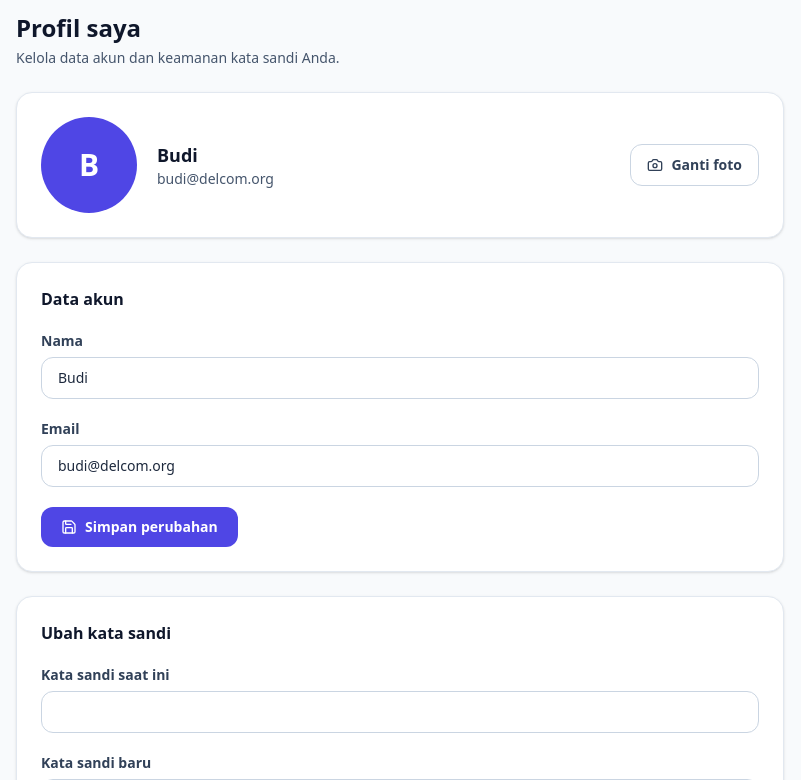
Scenario: ProfilePage › simpan perubahan profil › mengirim data yang sudah di-trim lalu menampilkan notifikasi sukses
Replace the text in the field labelled "Nama" with "  Budi Baru " at (400, 378), box [41, 357, 759, 399]
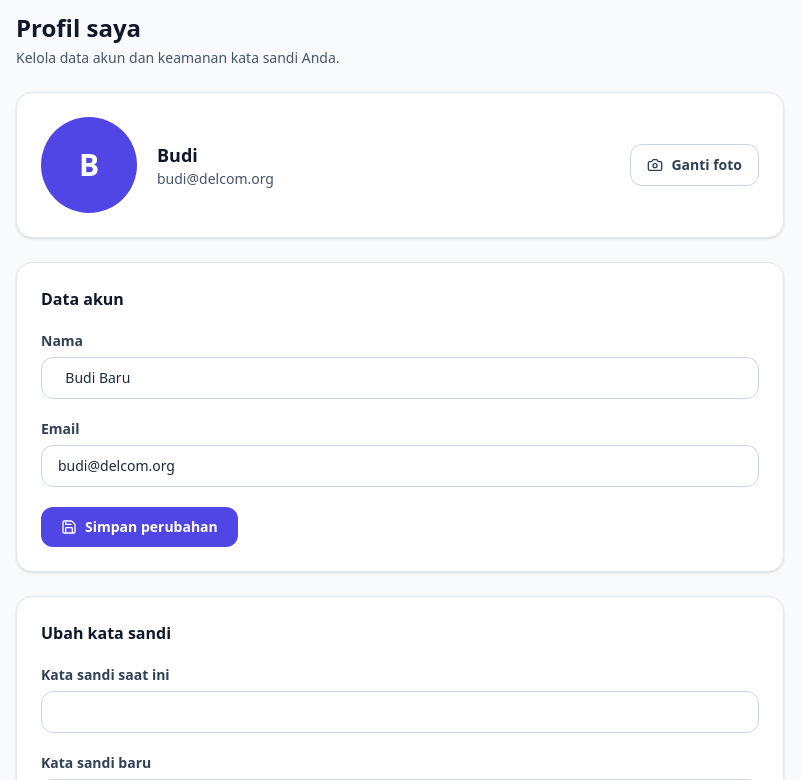
Replace the text in the field labelled "Email" with " baru@delcom.org " at (400, 466), box [41, 445, 759, 487]
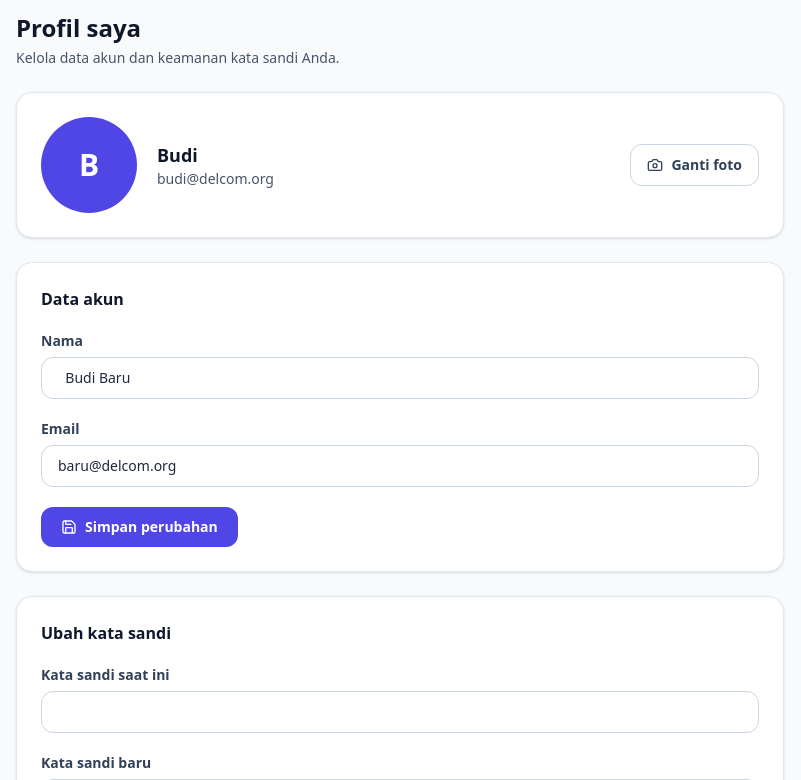
Submit the form "Data akun Nama Email Simpan perubahan", box [16, 262, 784, 572]
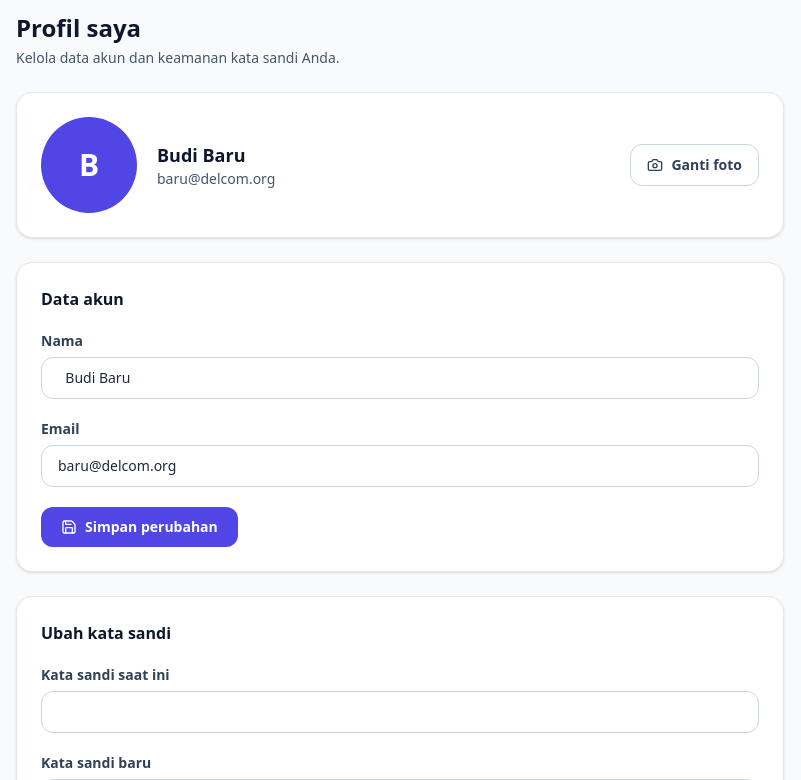
Expected: the text "baru@delcom.org" is shown, [157, 169, 275, 188]
